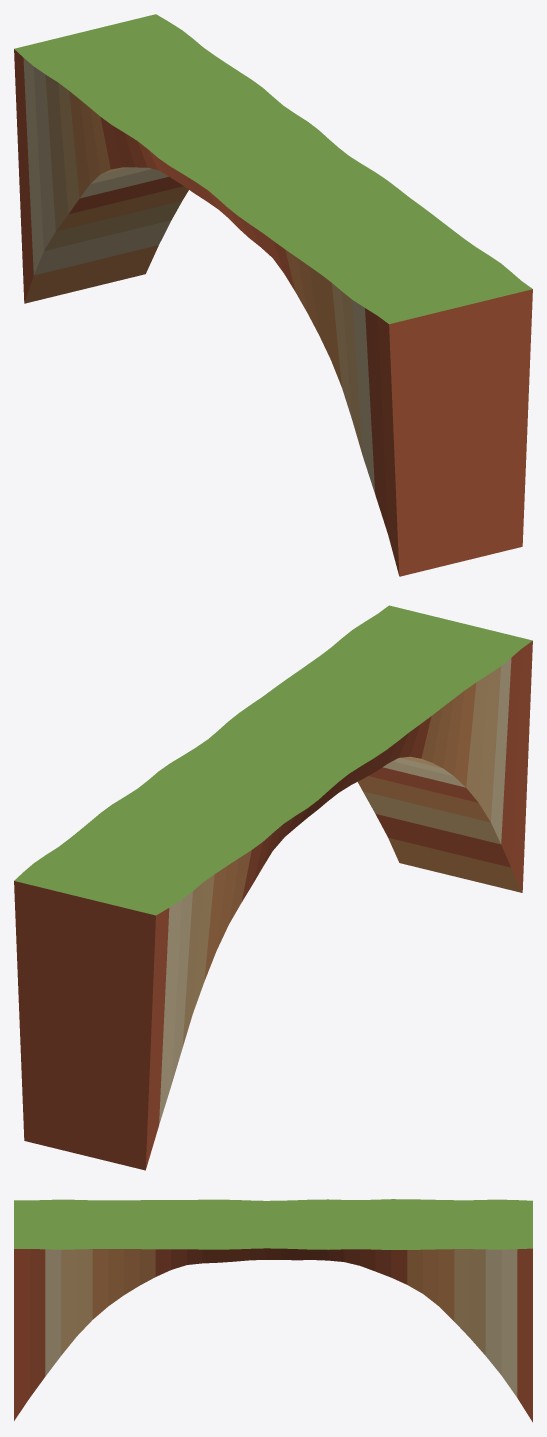
Rendered from ponte_d0.glb.
3 renders of one model, top to bottom at view 1: azimuth 30°, elevation 25°; view 2: azimuth 150°, elevation 25°; view 3: azimuth 270°, elevation 25°, orthographic. The views are drawn at different scales.
Parts seen in each view (by area): view 1: ponte_d0; view 2: ponte_d0; view 3: ponte_d0.
Part boxes in pixels (x1,y1,x2,y2): ponte_d0: (14,14,532,576); ponte_d0: (14,605,532,1170); ponte_d0: (14,1199,532,1422).
Bounding box in the file's own units: 30.88 × 50.17 × 133.
